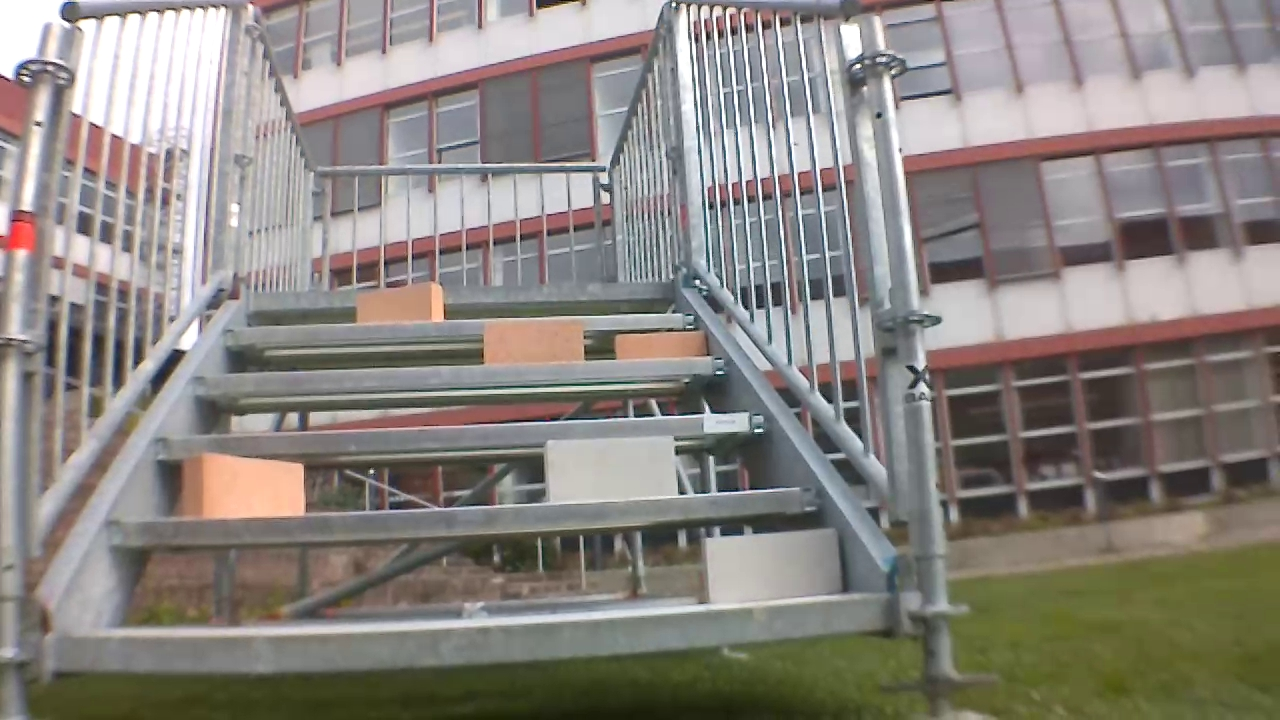brick: (702, 529, 843, 606), (543, 438, 674, 502), (182, 453, 303, 517), (484, 322, 582, 362), (355, 283, 443, 320), (616, 331, 706, 358)
edge: (48, 596, 883, 670), (106, 486, 824, 540), (153, 412, 765, 460), (192, 355, 738, 396), (222, 314, 694, 342), (249, 281, 671, 306)
stairs: (4, 4, 986, 716)
steps: (37, 276, 889, 678)
